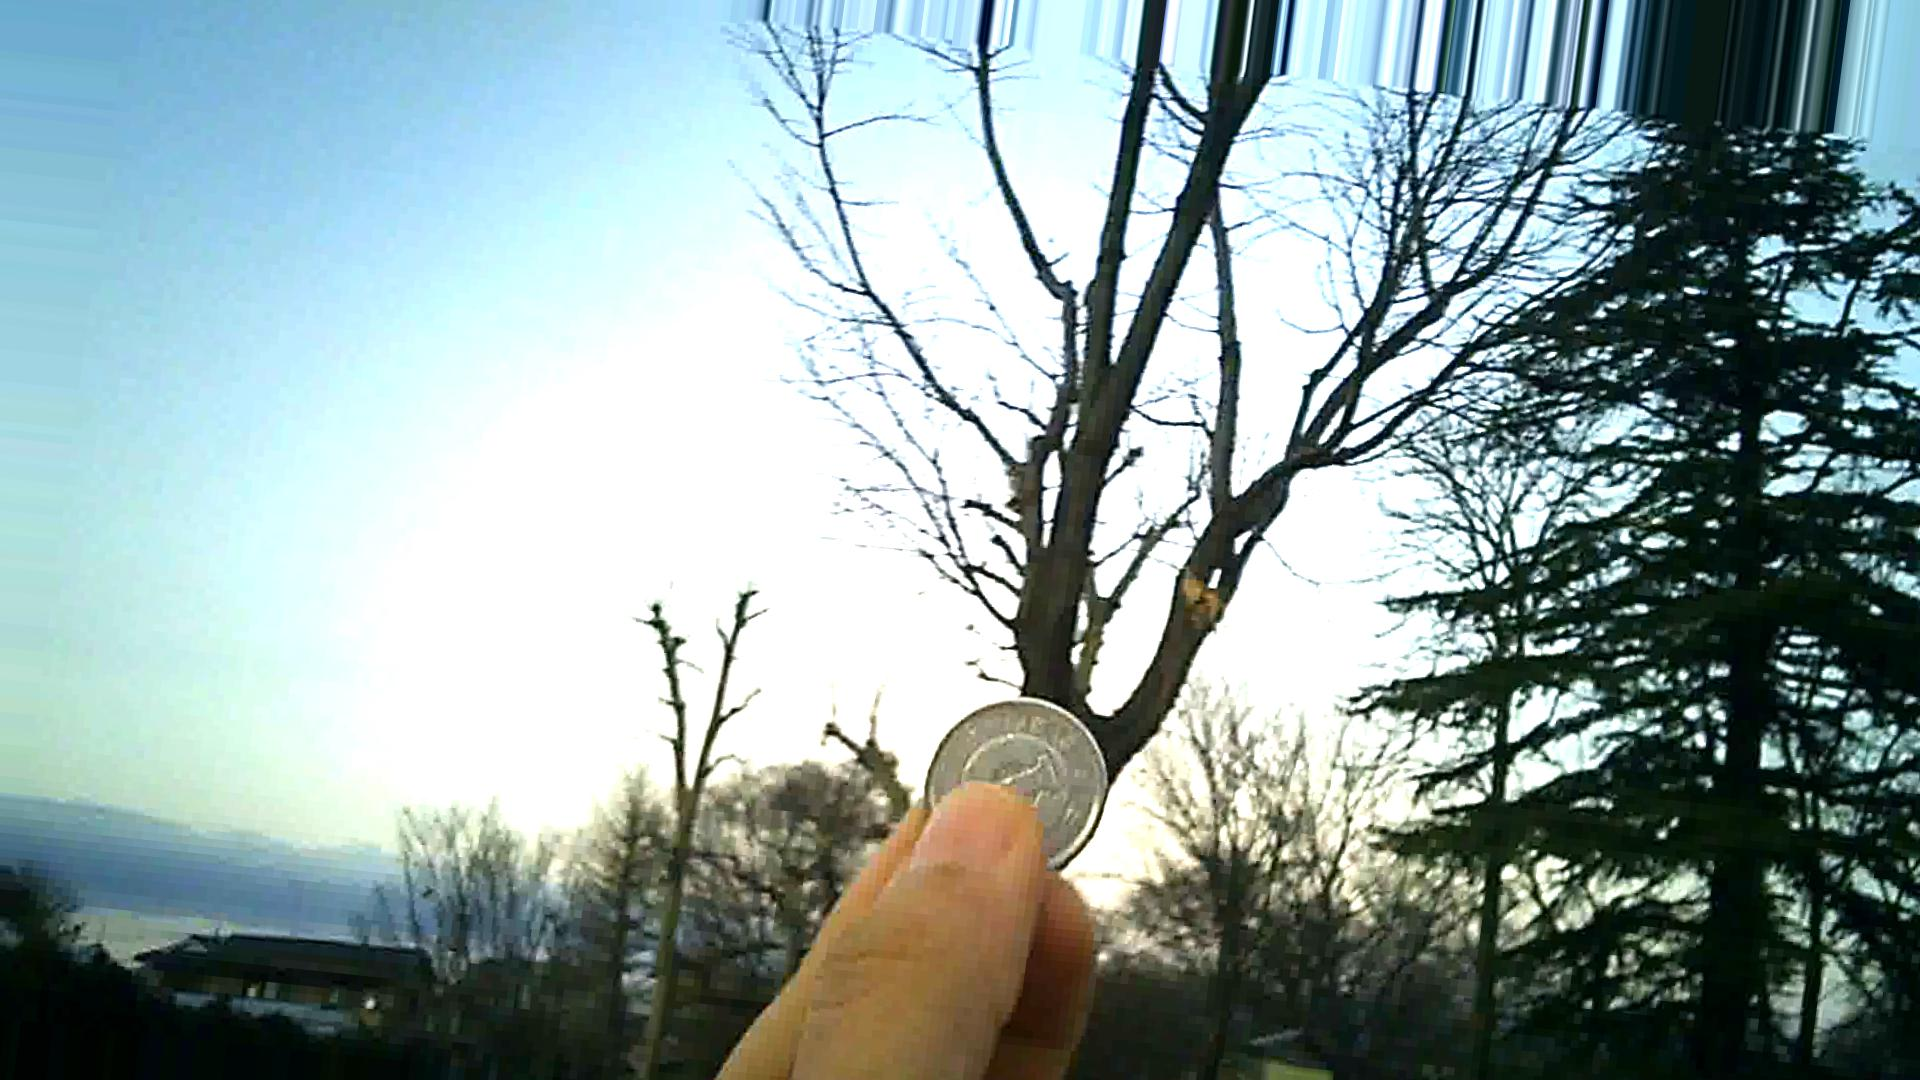1 Yen: (920, 692, 1121, 874)
